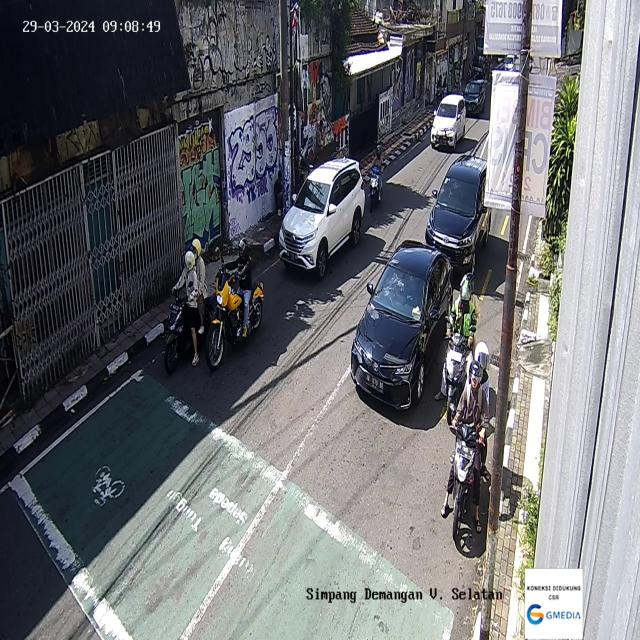car: (351, 239, 454, 411), (278, 156, 366, 280), (425, 153, 491, 275), (430, 94, 466, 150), (464, 80, 486, 114)
motorcycle: (447, 339, 496, 540), (204, 238, 264, 371), (162, 238, 213, 375), (436, 273, 481, 427), (368, 143, 383, 214)
